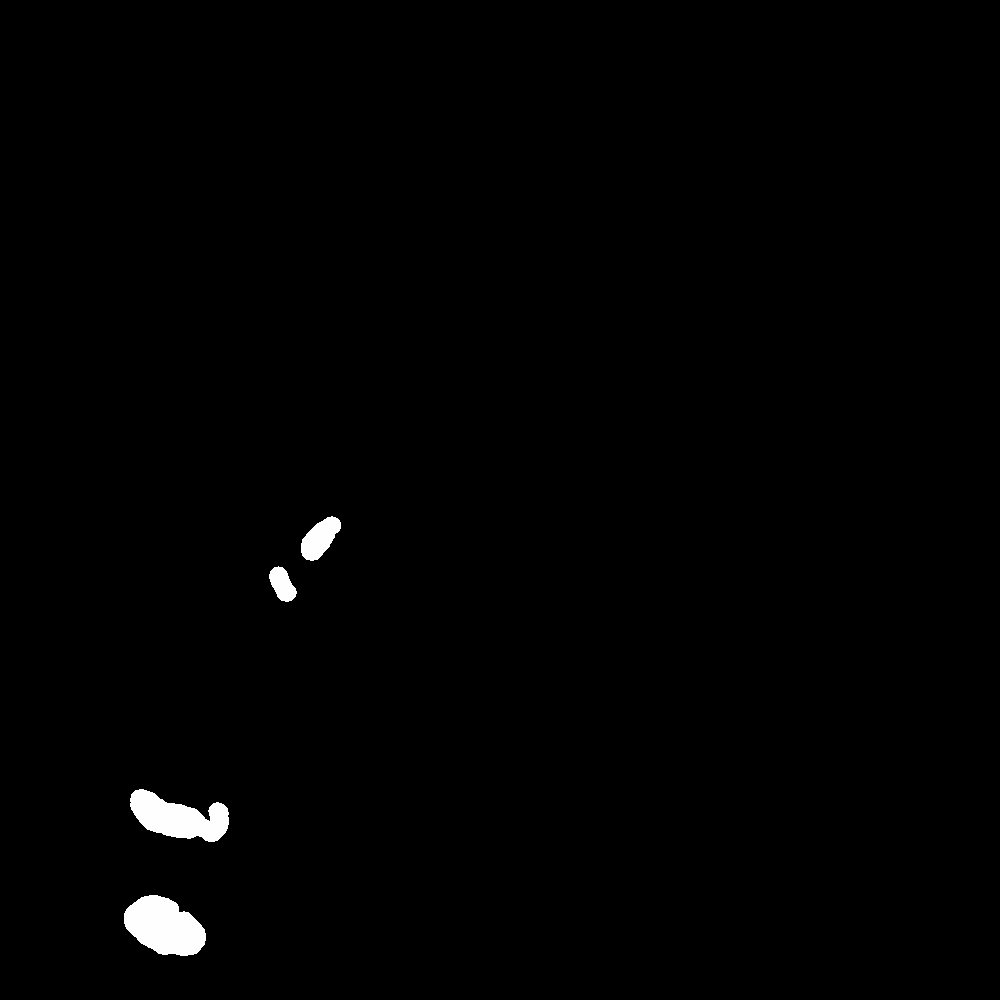illegal: (113, 893, 205, 960), (122, 786, 231, 838), (256, 564, 294, 600)
